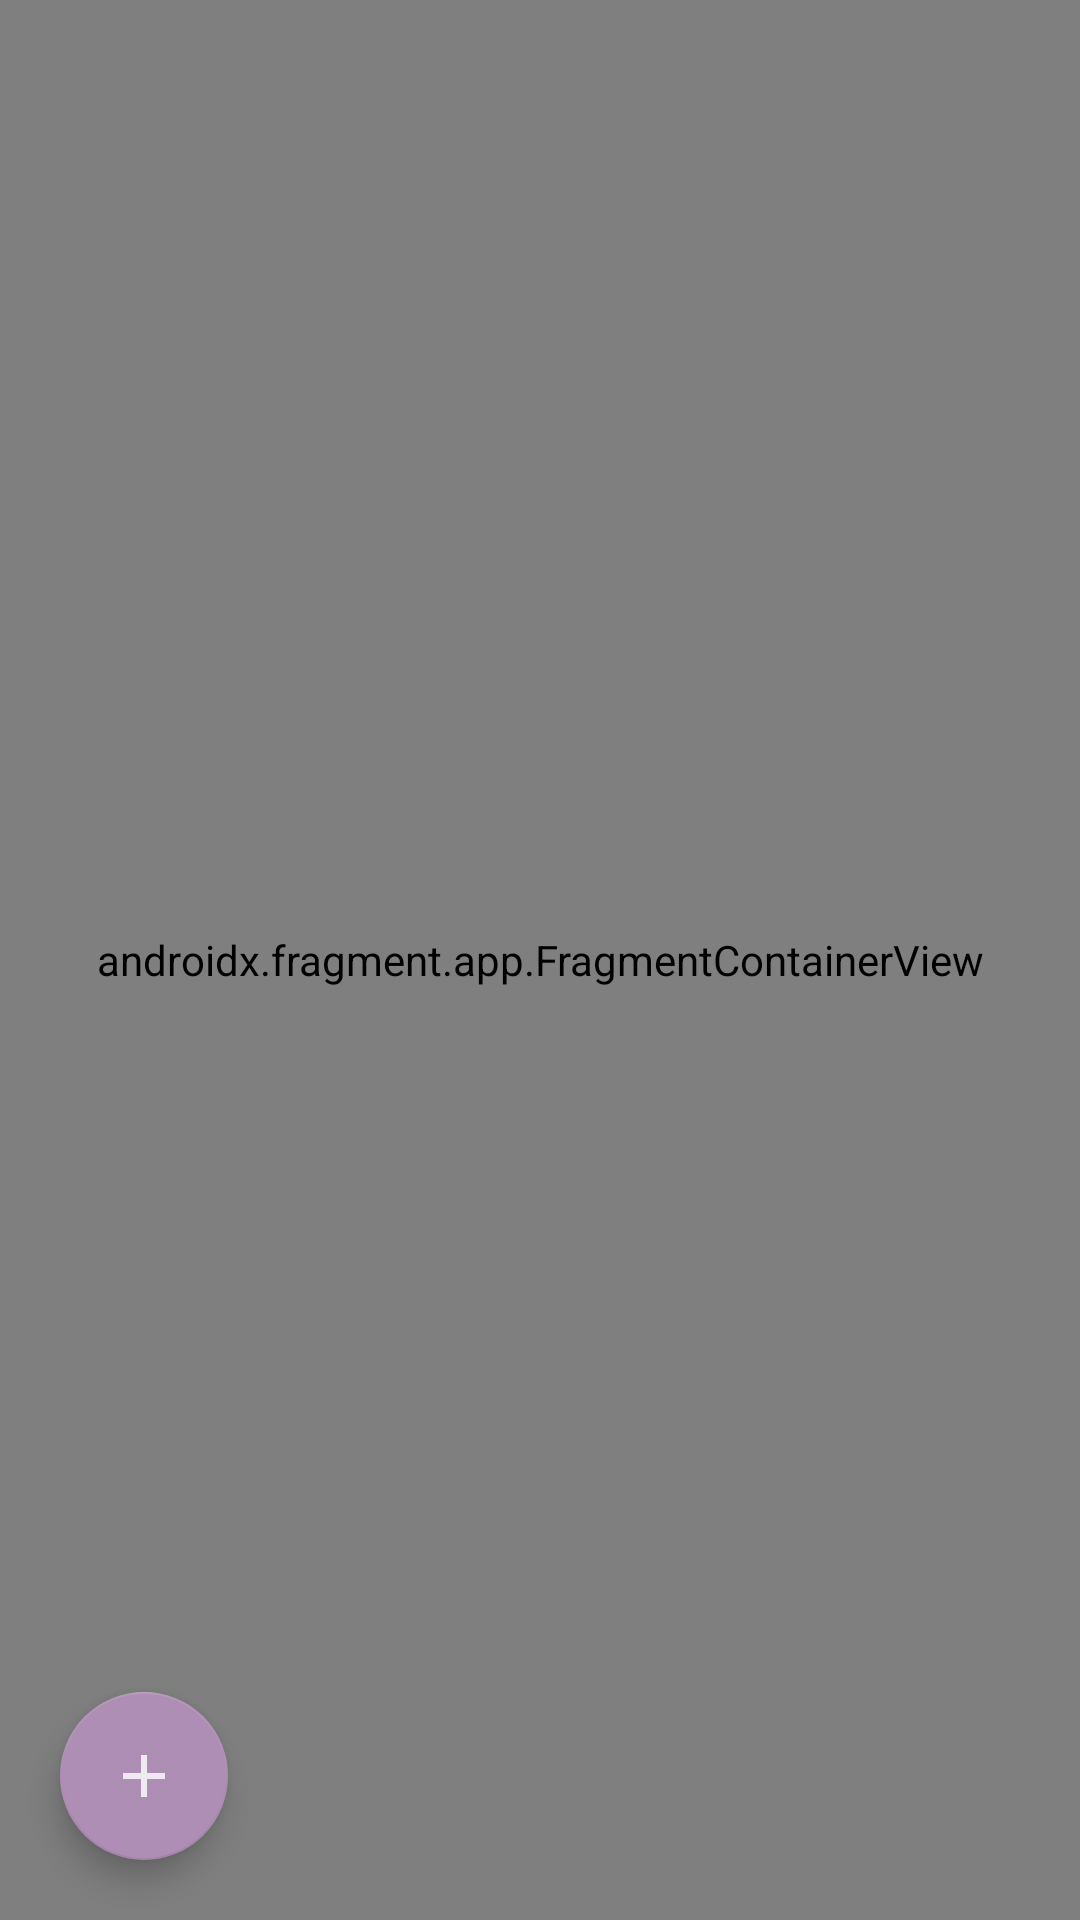

Icon bounding boxes for this 1080 x 1920 phone screenshot, format (x1, y1, x2, y2):
add: (60, 1692, 228, 1860)
